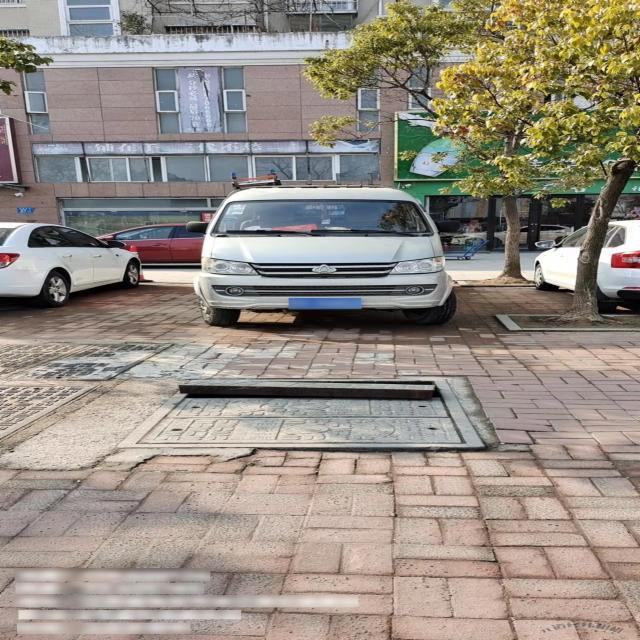Faulty: (117, 376, 497, 449)
